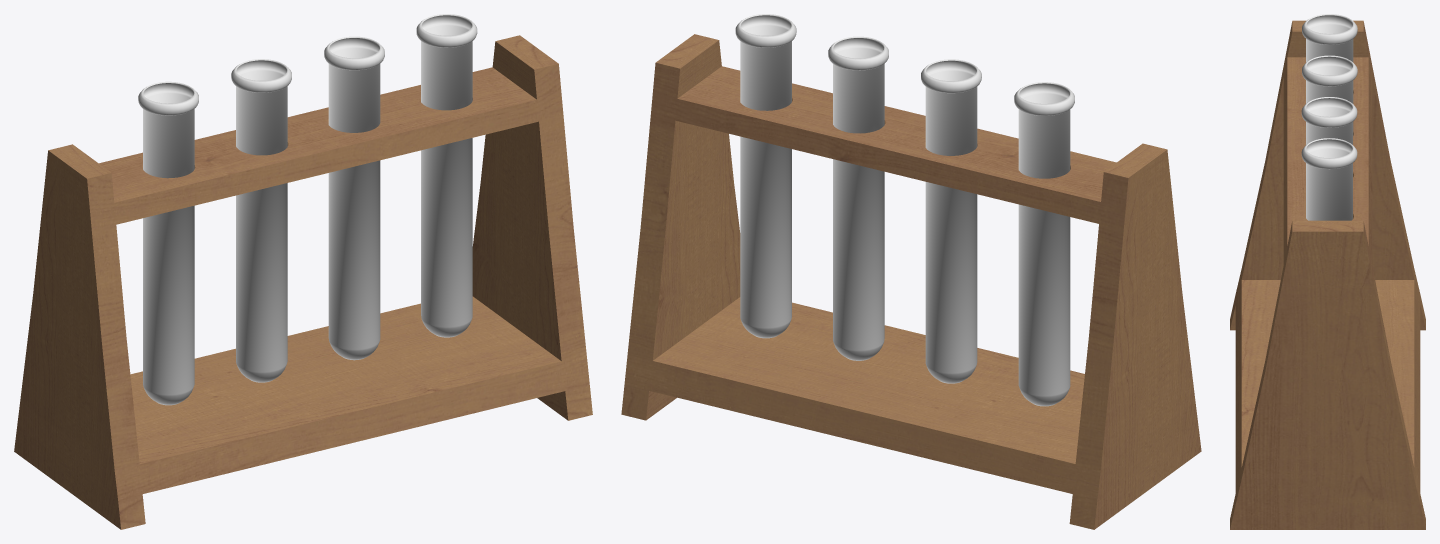
Rendered from TestTubes+Rack.fbx.
3 views of the same model, side by side, from view 1: azimuth 30°, elevation 25°; view 2: azimuth 150°, elevation 25°; view 3: azimuth 270°, elevation 25° (orthographic). The views are drawn at different scales.
Parts seen in each view (by area): view 1: Tube-Rack, Test-Tubes; view 2: Tube-Rack, Test-Tubes; view 3: Tube-Rack, Test-Tubes.
Part boxes in pixels (x1,y1,x2,y2): Tube-Rack: (14, 35, 592, 529); Test-Tubes: (138, 14, 477, 405); Tube-Rack: (621, 34, 1201, 529); Test-Tubes: (735, 14, 1074, 406); Tube-Rack: (1230, 20, 1425, 529); Test-Tubes: (1301, 14, 1357, 220).
Bounding box in the file's own units: 513 × 387 × 201.
